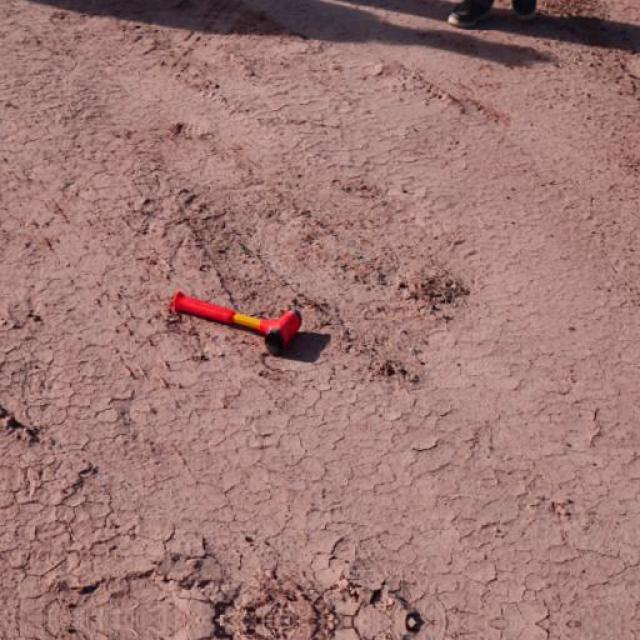mallet: (168, 288, 302, 352)
